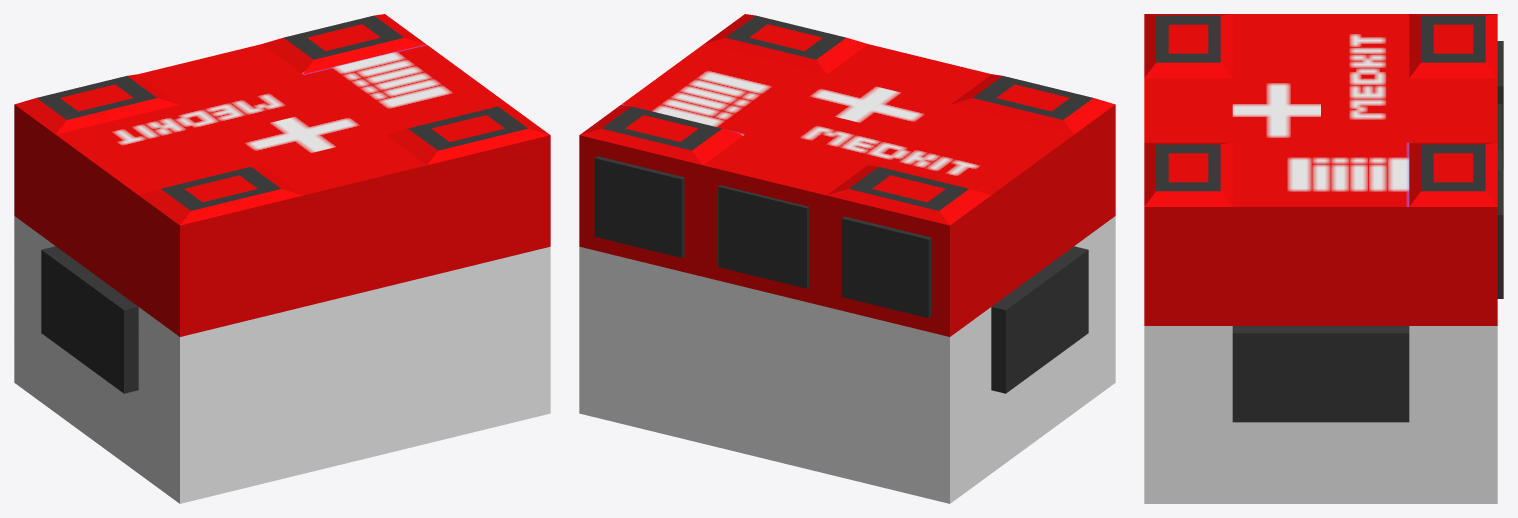
File: MedKitM.fbx
The picture shows the model from 3 angles, left to right: view 1: azimuth 30°, elevation 25°; view 2: azimuth 150°, elevation 25°; view 3: azimuth 270°, elevation 25°; orthographic projection. The views are drawn at different scales.
Parts seen in each view (by area): view 1: MedKit; view 2: MedKit; view 3: MedKit.
Boxes of the visible parts, box(x1,y1,x2,y2) form: MedKit: box(14, 14, 550, 503); MedKit: box(579, 14, 1115, 503); MedKit: box(1144, 14, 1503, 503).
Bounding box in the file's own units: 154 × 105 × 113.
1 material, 1 textured.
